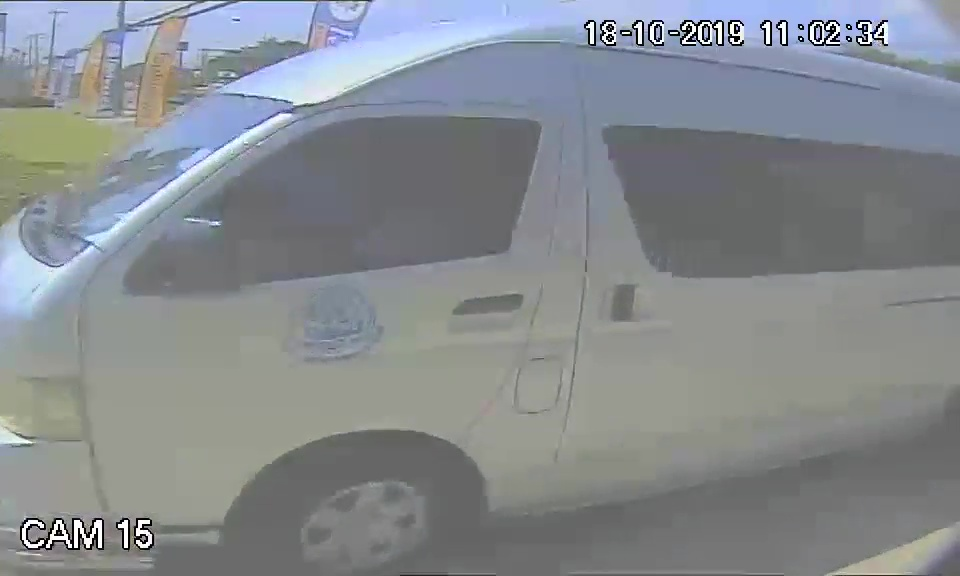van: (12, 17, 657, 557)
